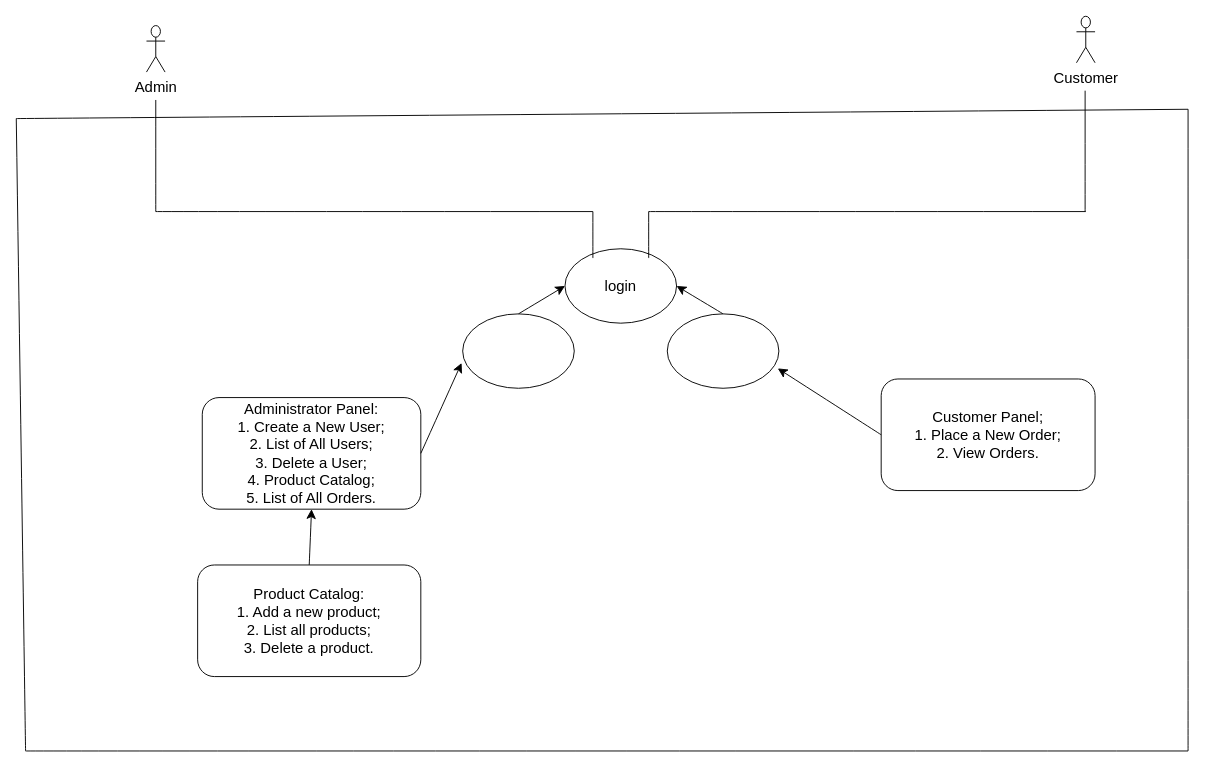
Some shapes in this 1205 by 768 pixel diagram are drawn without their labels. The shapes that lost their labels are listed below. From the top down, each one's centre as x and y in pixels, then its label:
At [518,350]: "admin login".
At [722,350]: "customer login".
